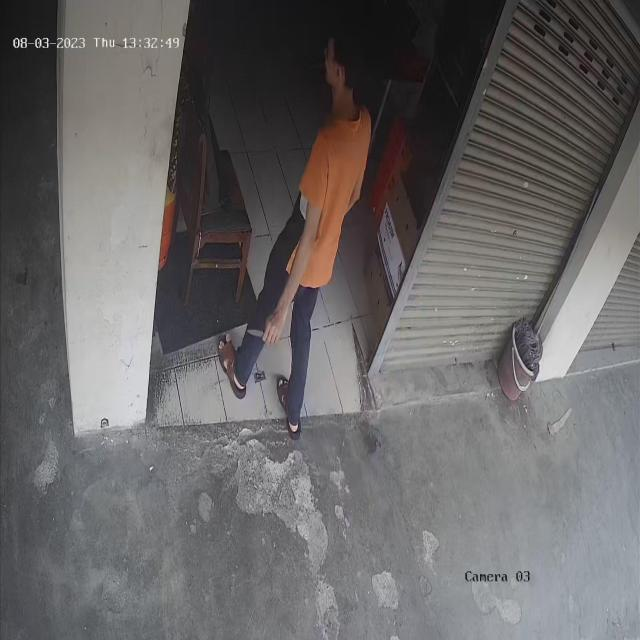Knife: (243, 321, 280, 352)
